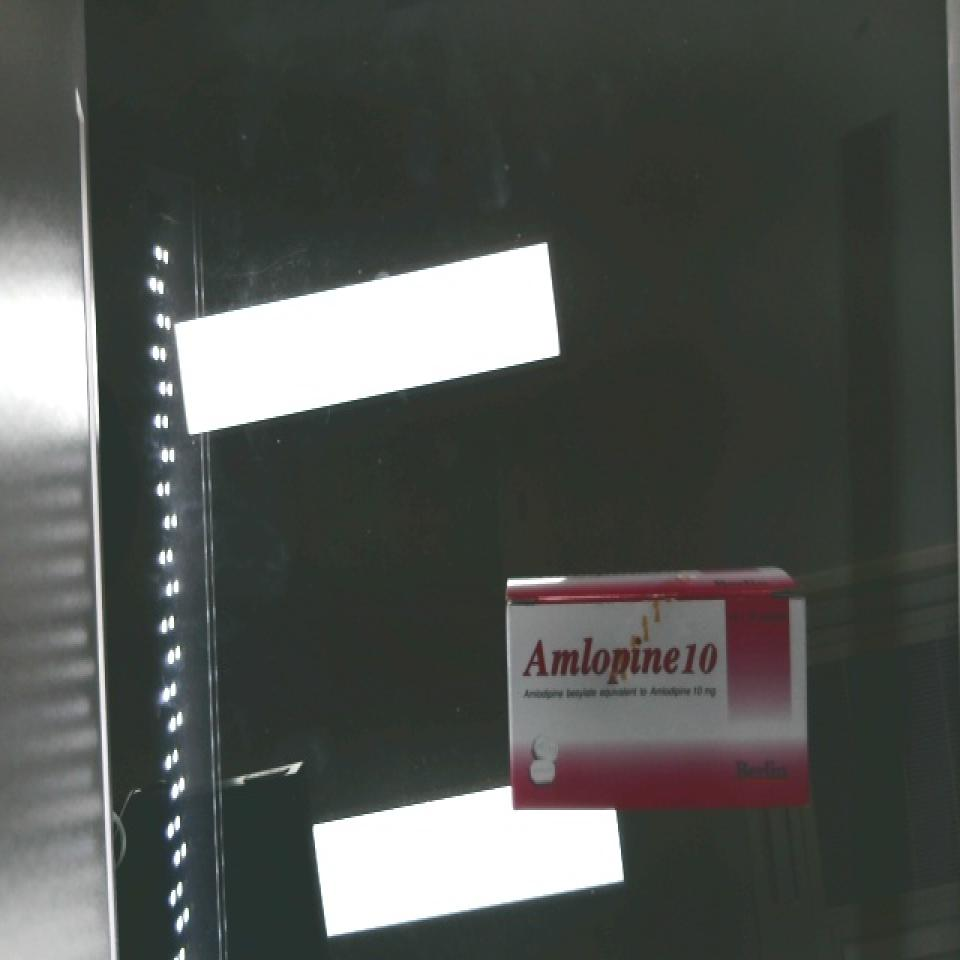medicine_box: (505, 582, 810, 812)
medicine_label_obb: (509, 618, 729, 700)
